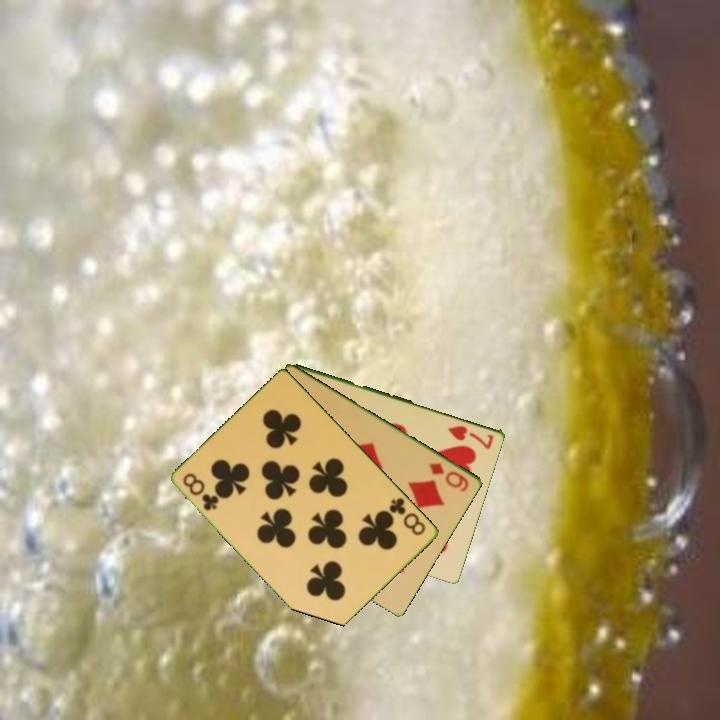6d: (425, 459, 472, 494)
7h: (444, 422, 497, 452)
8c: (386, 494, 429, 538), (180, 469, 222, 514)
